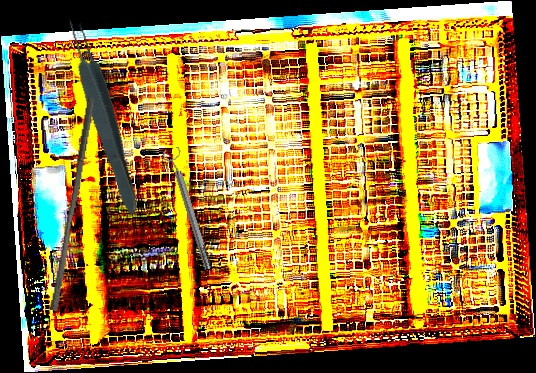Fixation Ring: (161, 145, 217, 273)
Pusher: (49, 95, 95, 313)
Tissue Forceps: (60, 13, 148, 218)
